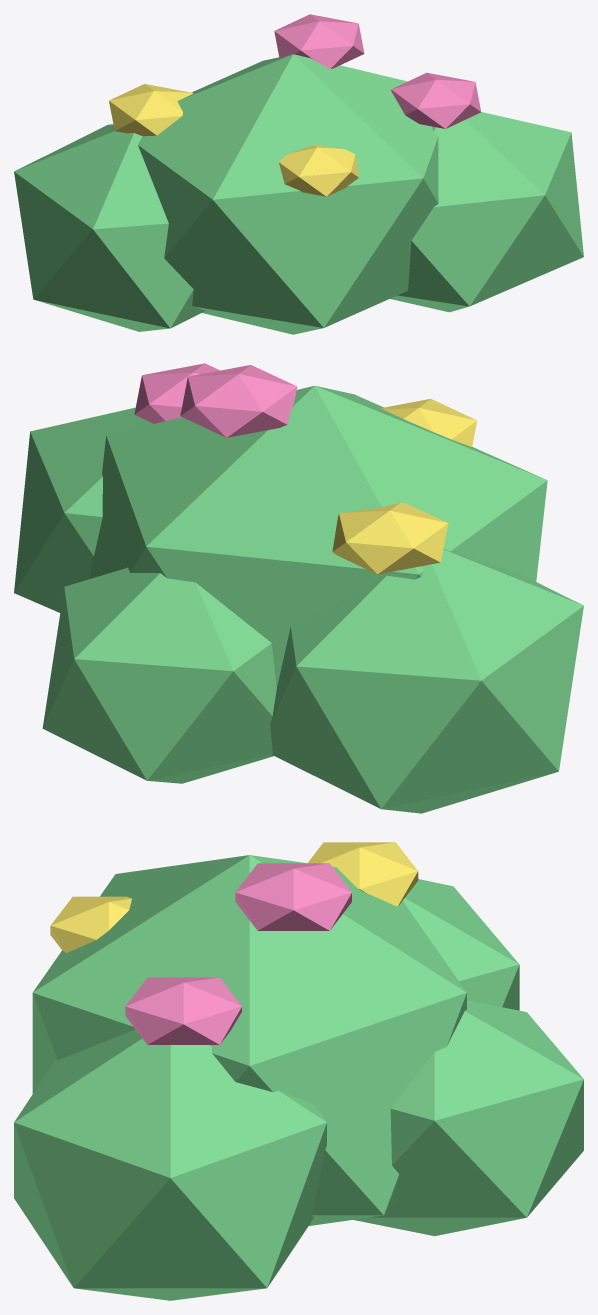
The model's file is TropicalBush.fbx.
The picture shows the model from 3 angles, top to bottom: view 1: azimuth 30°, elevation 25°; view 2: azimuth 150°, elevation 25°; view 3: azimuth 270°, elevation 25°; orthographic projection. The views are drawn at different scales.
Parts seen in each view (by area): view 1: TropicalBush; view 2: TropicalBush; view 3: TropicalBush.
Boxes of the visible parts, left/top/right/bottom form: TropicalBush: left=14, top=14, right=583, bottom=334; TropicalBush: left=14, top=363, right=583, bottom=813; TropicalBush: left=14, top=842, right=583, bottom=1300.
Bounding box in the file's own units: 1.68 × 0.9871 × 1.29.
